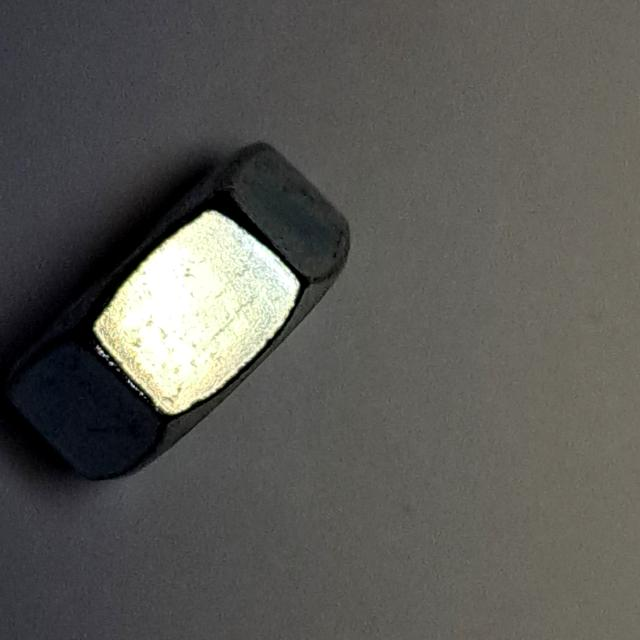Side_Excellent: (1, 127, 363, 495)
